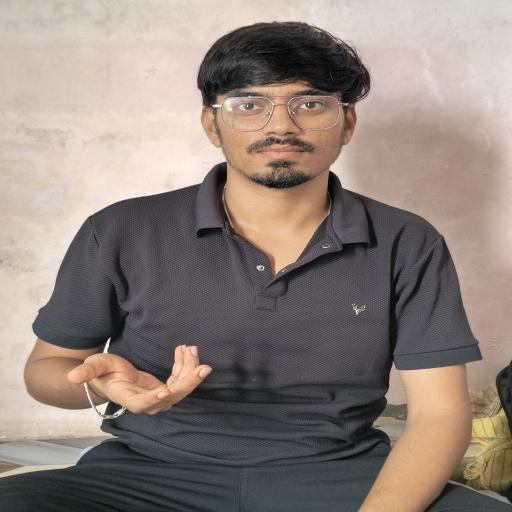Help: (24, 316, 260, 442)
